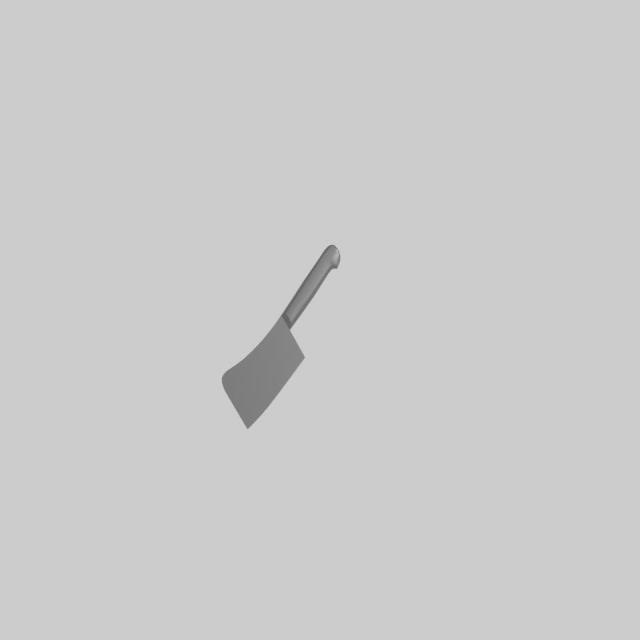knife: (281, 246, 341, 330)
